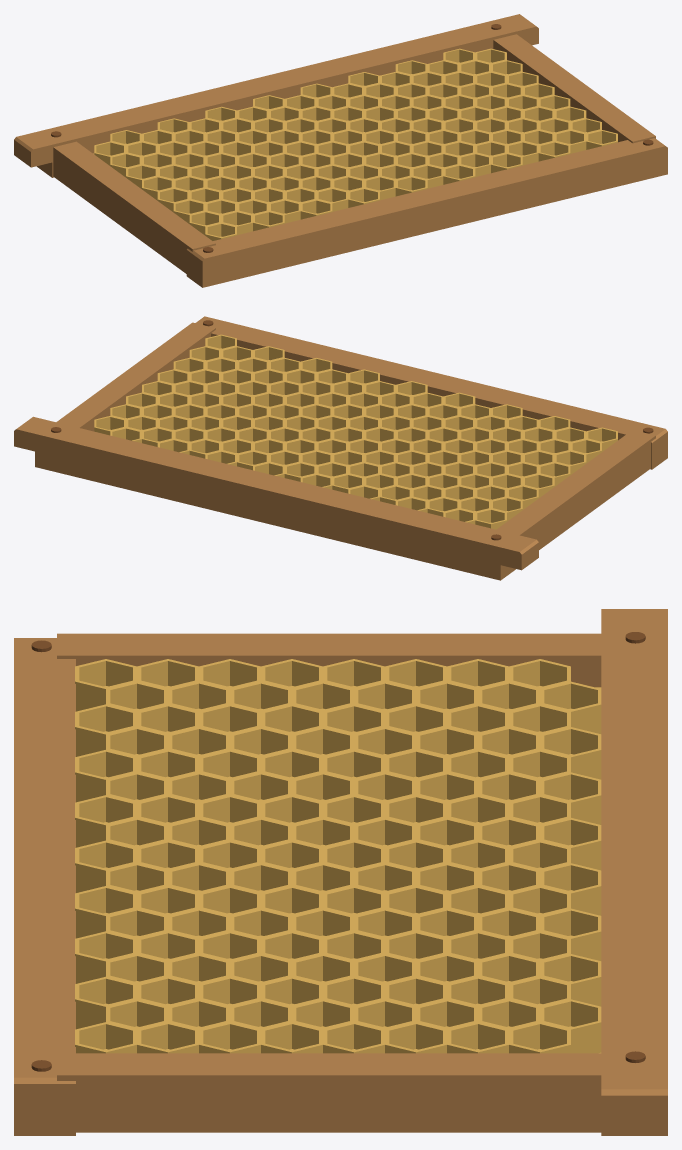
3 renders of one model, top to bottom at view 1: azimuth 30°, elevation 25°; view 2: azimuth 150°, elevation 25°; view 3: azimuth 270°, elevation 25°, orthographic. The views are drawn at different scales.
Parts seen in each view (by area): view 1: Wax_SharedWallRecessField, Frame_BottomBar, Frame_TopBarWithEars, Frame_SideRail_Left, Frame_SideRail_Right; view 2: Wax_SharedWallRecessField, Frame_TopBarWithEars, Frame_BottomBar, Frame_SideRail_Left, Frame_SideRail_Right; view 3: Wax_SharedWallRecessField, Frame_SideRail_Right, Frame_TopBarWithEars, Frame_BottomBar, Frame_SideRail_Left.
Part boxes in pixels (x1,y1,x2,y2): Wax_SharedWallRecessField: (94,48,617,240); Frame_BottomBar: (186,138,667,287); Frame_TopBarWithEars: (14,14,538,177); Frame_SideRail_Left: (53,141,215,273); Frame_SideRail_Right: (493,34,655,143); Wax_SharedWallRecessField: (94,334,617,529); Frame_TopBarWithEars: (14,416,538,580); Frame_BottomBar: (196,316,667,469); Frame_SideRail_Left: (496,430,655,549); Frame_SideRail_Right: (56,322,215,431); Wax_SharedWallRecessField: (75,659,601,1053); Frame_SideRail_Right: (57,1053,601,1132); Frame_TopBarWithEars: (601,609,667,1135); Frame_BottomBar: (14,638,75,1135); Frame_SideRail_Left: (57,633,601,687).
Bounding box in the file's own units: 0.48 × 0.0315 × 0.274.
